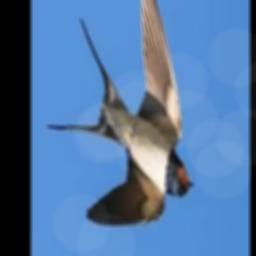Swallow: (47, 0, 193, 226)
